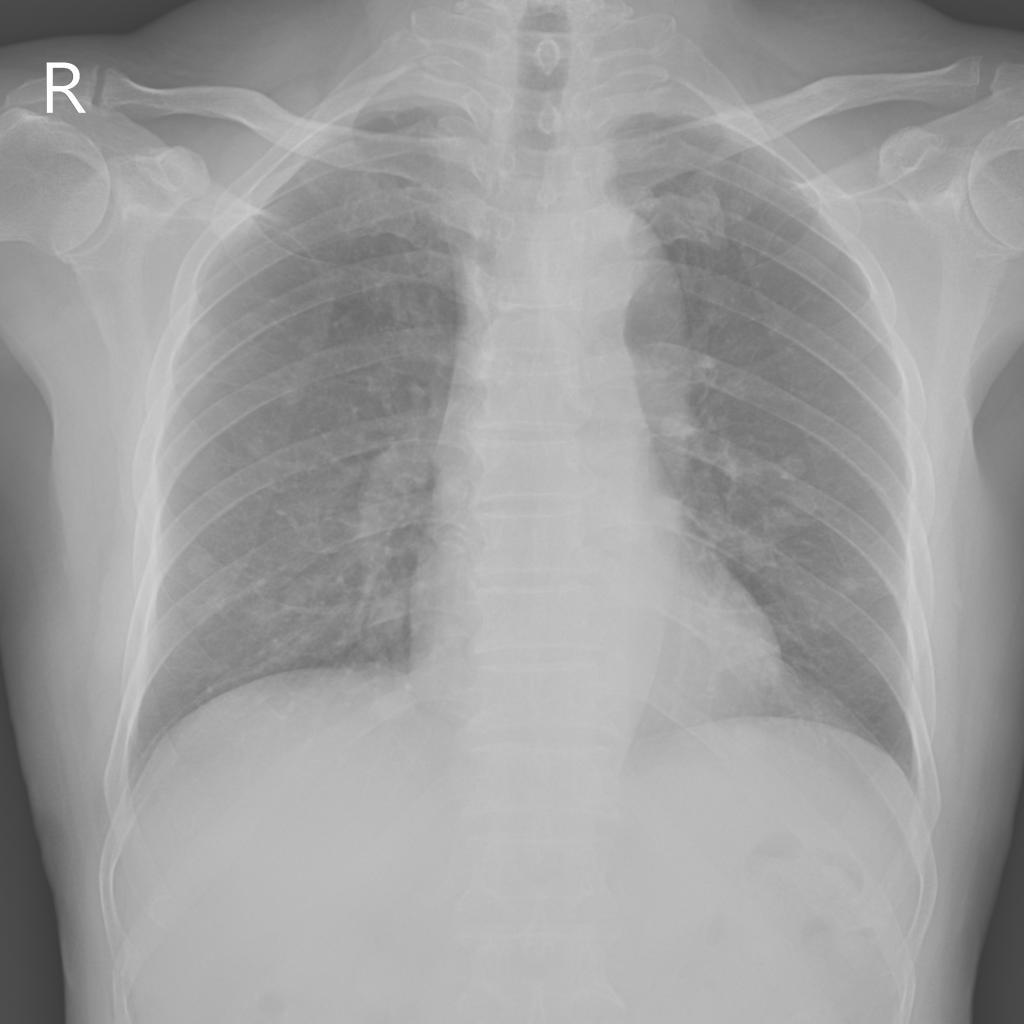Nodule: (656, 485, 702, 527), (690, 192, 722, 221), (661, 412, 701, 434), (245, 599, 277, 624), (787, 490, 817, 516), (278, 381, 306, 406), (776, 457, 807, 479), (280, 585, 310, 607), (246, 437, 272, 459), (187, 555, 213, 573), (192, 323, 214, 344)
